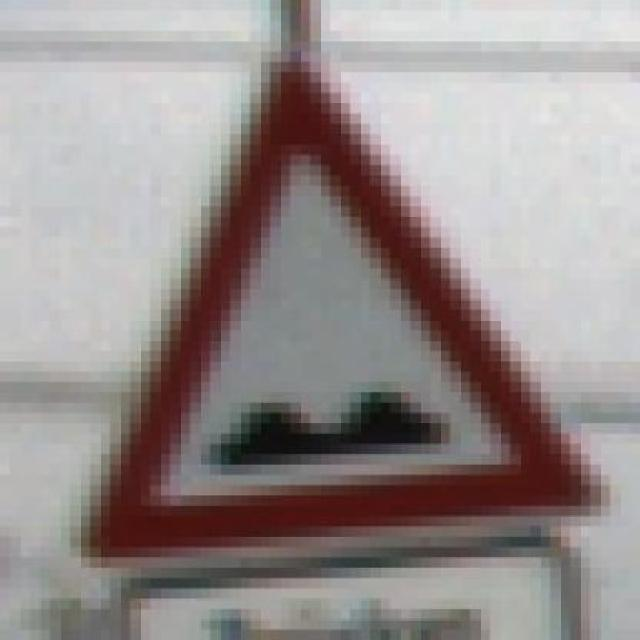Uneven Road: (60, 41, 611, 568)
